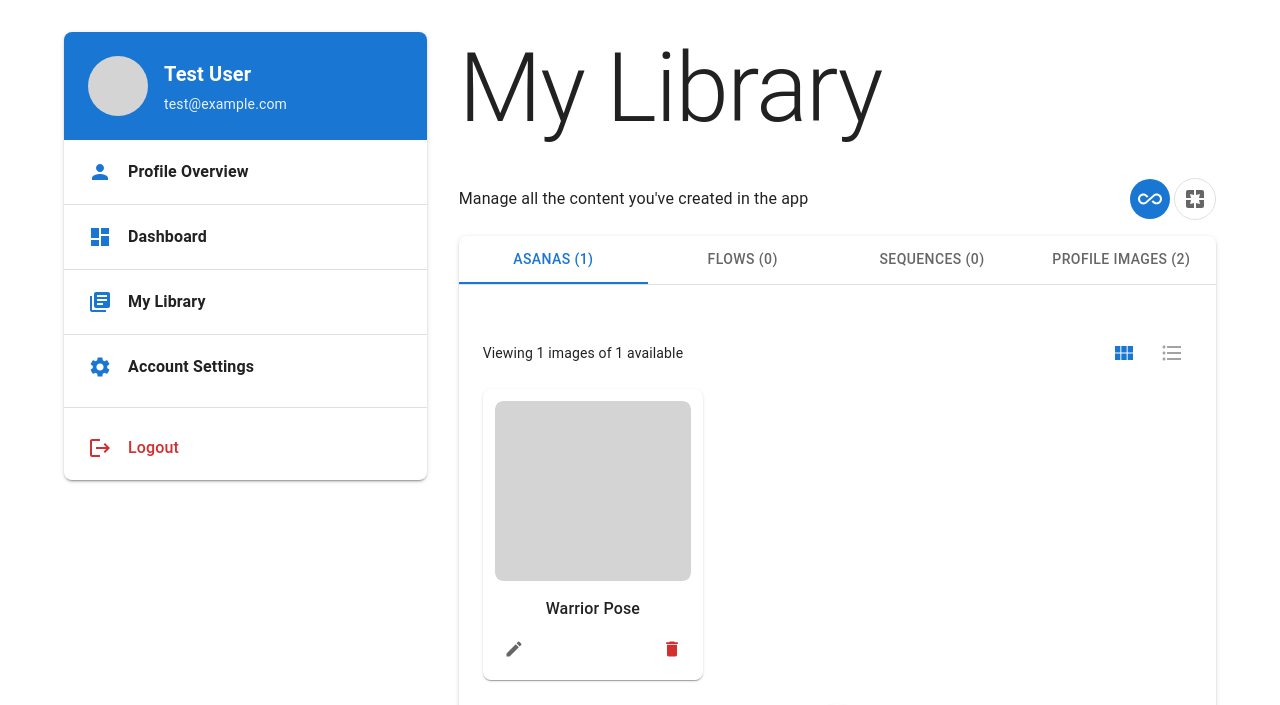
LibraryPage - AsanaCard Delete Feature › should close dialog when cancel button is clicked
The width and height of the screenshot is (1280, 705).
Expected: the heading "Warrior Pose" is shown, [546,599,640,618]
Click the button named "delete" at (672, 649), box [657,634,687,664]
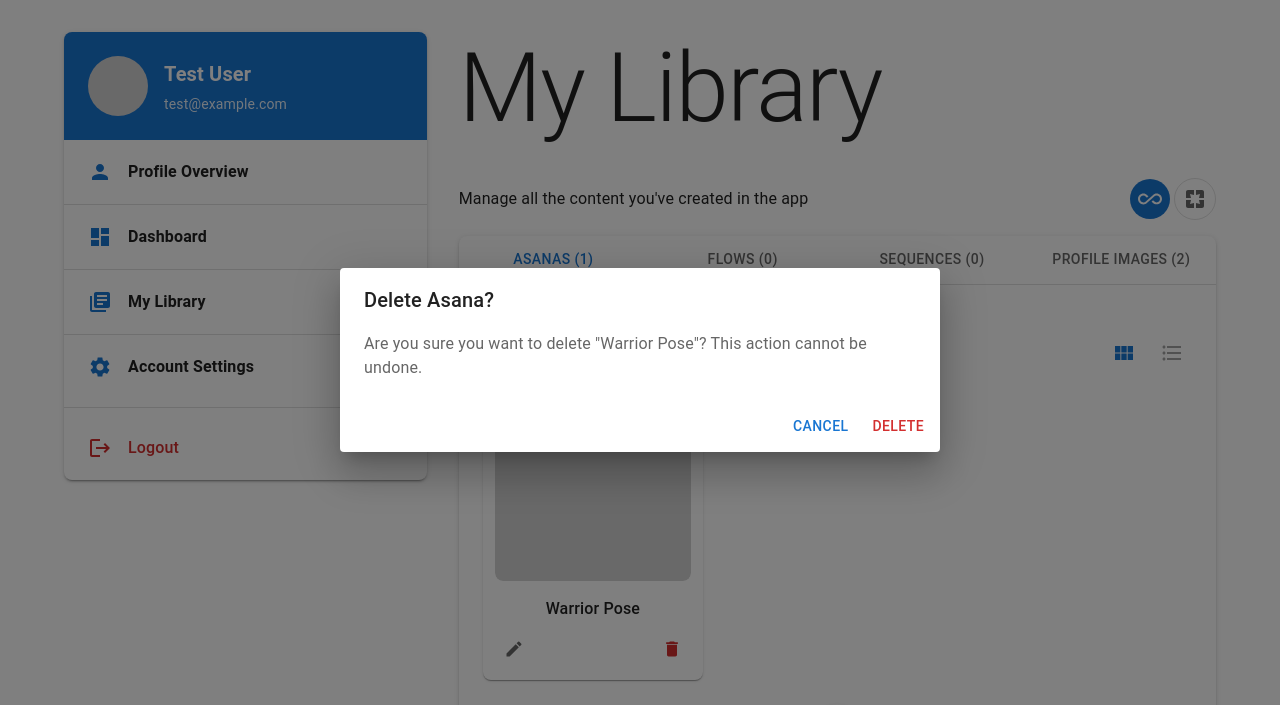
Expected: the heading "Delete Asana?" is shown, [364,288,494,312]
Click the button "Cancel" at (821, 426), box [785,408,856,444]
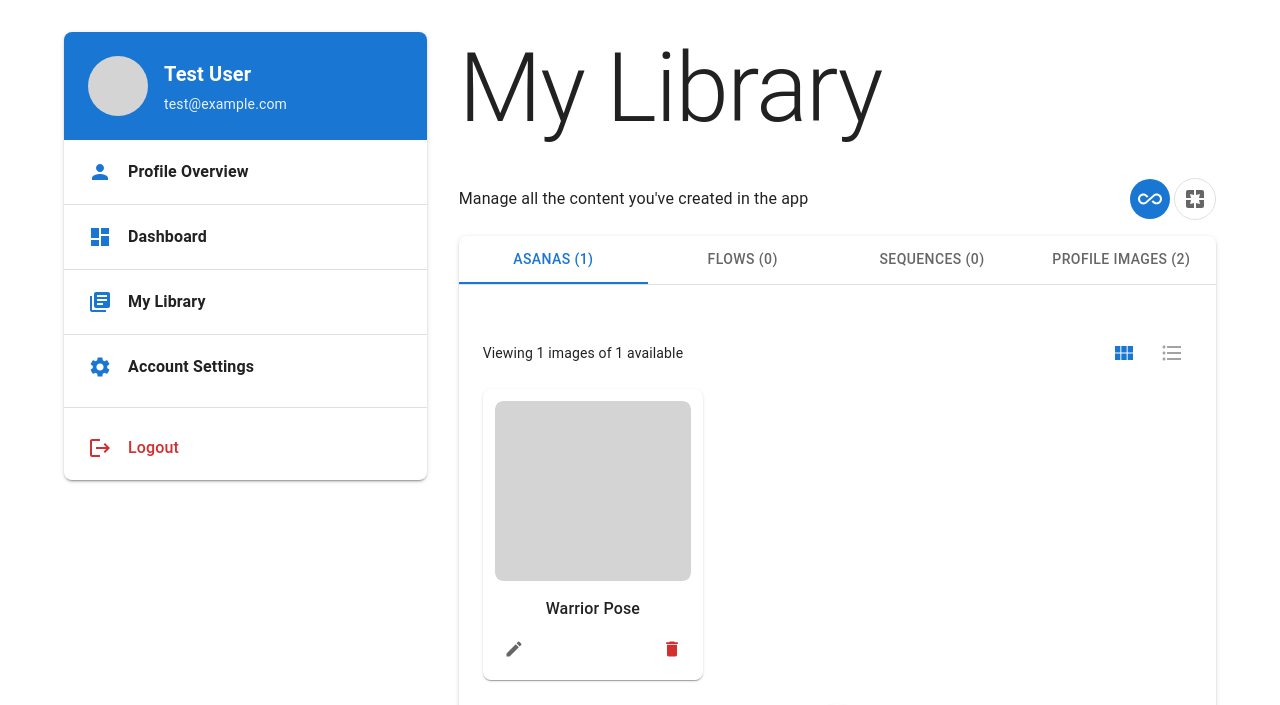
Expected: the heading "Delete Asana?" is gone
